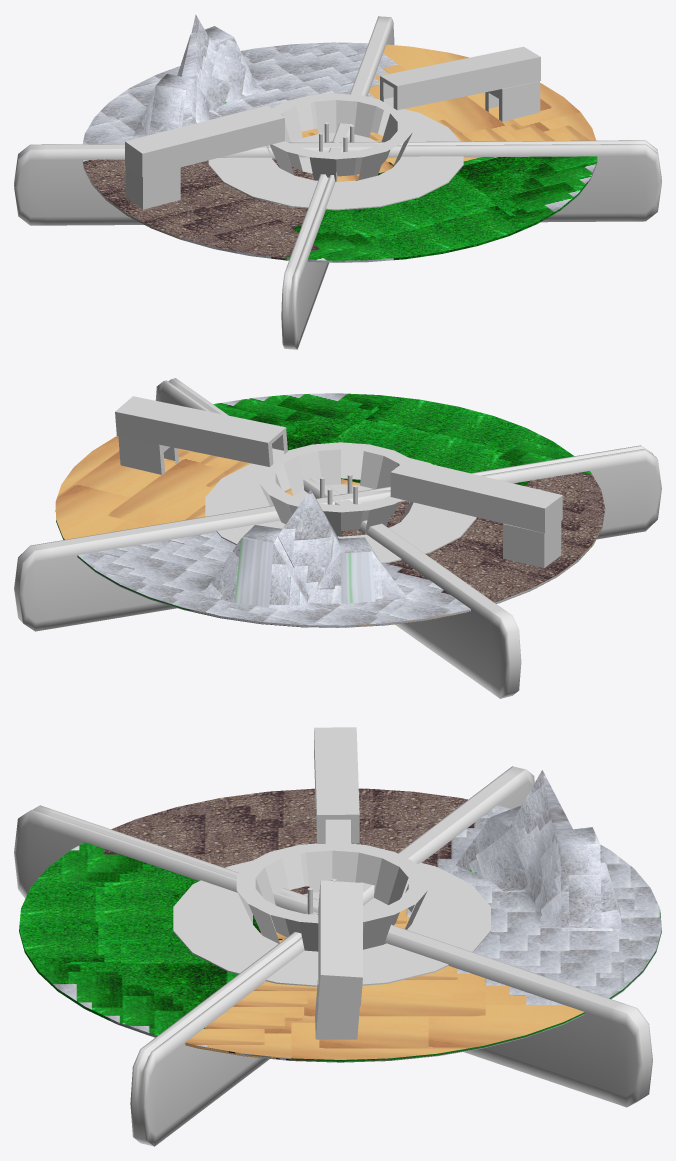
Rendered from Arena.FBX.
The picture shows the model from 3 angles, top to bottom: view 1: azimuth 30°, elevation 25°; view 2: azimuth 150°, elevation 25°; view 3: azimuth 270°, elevation 25°; orthographic projection. The views are drawn at different scales.
Parts seen in each view (by area): view 1: Enviromental Area, Terrain Divider 003, Middle Floor, Terrain Divider 1, Sky Box, Sky Box001, Sky Box Entrance, Sky Box Entrance001; view 2: Enviromental Area, Terrain Divider 1, Middle Floor, Terrain Divider 003, Sky Box001, Sky Box, Sky Box Entrance, Sky Box Entrance001; view 3: Enviromental Area, Middle Floor, Terrain Divider 1, Terrain Divider 003, Sky Box001, Sky Box, Sky Box Entrance001.
Boxes of the visible parts, box(x1,y1,x2,y2) form: Enviromental Area: box(82, 14, 597, 262); Terrain Divider 003: box(14, 140, 661, 225); Middle Floor: box(208, 93, 463, 210); Terrain Divider 1: box(281, 16, 394, 349); Sky Box: box(125, 105, 284, 176); Sky Box001: box(380, 46, 540, 110); Sky Box Entrance: box(125, 165, 180, 209); Sky Box Entrance001: box(485, 81, 540, 121); Enviromental Area: box(55, 393, 605, 627); Terrain Divider 1: box(14, 445, 661, 631); Middle Floor: box(205, 442, 476, 563); Terrain Divider 003: box(155, 378, 521, 698); Sky Box001: box(115, 396, 287, 466); Sky Box: box(390, 459, 562, 533); Sky Box Entrance: box(503, 521, 561, 568); Sky Box Entrance001: box(118, 436, 178, 474); Enviromental Area: box(19, 770, 661, 1062); Middle Floor: box(173, 843, 490, 986); Terrain Divider 1: box(14, 805, 652, 1107); Terrain Divider 003: box(130, 766, 534, 1146); Sky Box001: box(318, 880, 362, 1005); Sky Box: box(314, 727, 359, 843); Sky Box Entrance001: box(315, 978, 359, 1039).
Bounding box in the file's own units: 2367 × 727 × 2152.
1 material, 1 textured.
